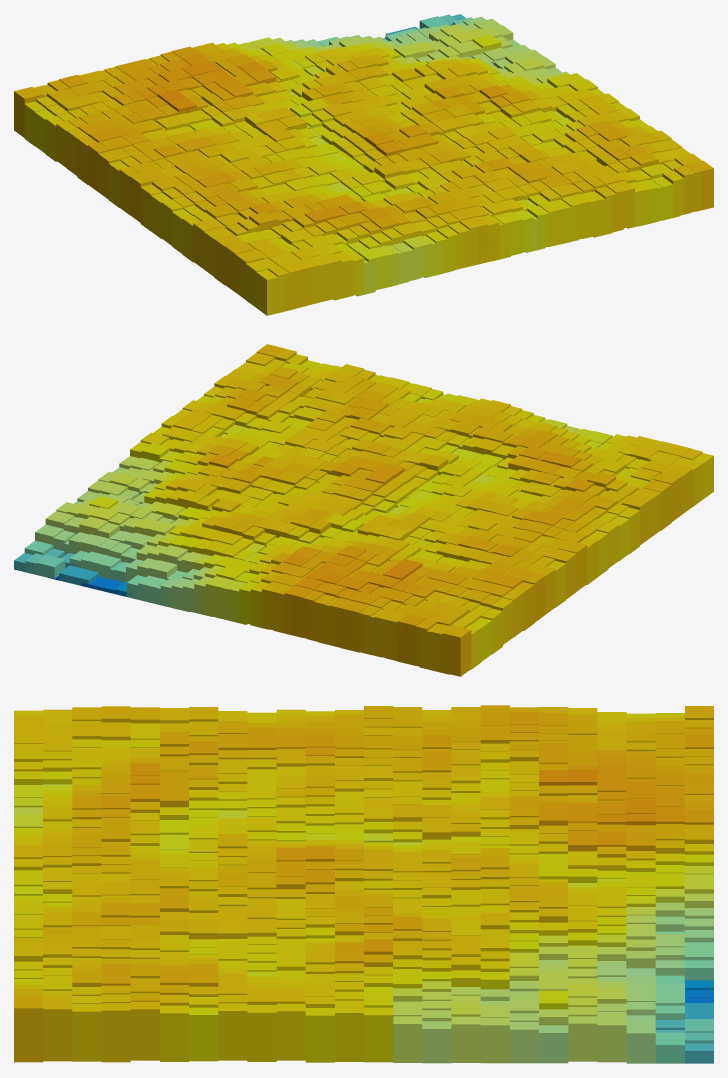
File: population.glb
3 renders of one model, top to bottom at view 1: azimuth 30°, elevation 25°; view 2: azimuth 150°, elevation 25°; view 3: azimuth 270°, elevation 25°, orthographic. The views are drawn at different scales.
Visible parts, largest first — view 1: population; view 2: population; view 3: population.
Part boxes in pixels (bbox=[...]): population: bbox=[14, 14, 713, 315]; population: bbox=[14, 344, 713, 676]; population: bbox=[14, 705, 713, 1063].
Bounding box in the file's own units: 2444 × 237 × 2399.
